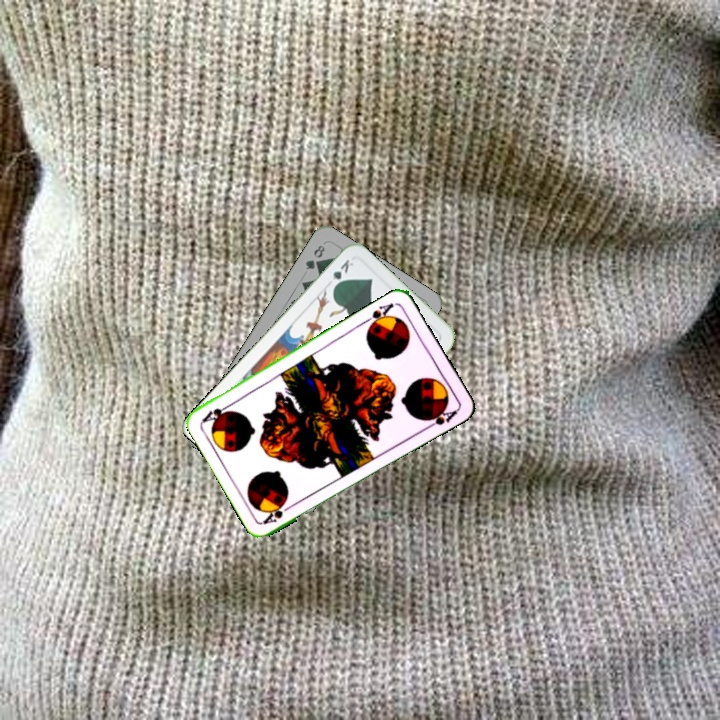G8: (301, 241, 328, 272)
GK: (328, 255, 356, 291)
SA: (360, 299, 396, 331), (259, 497, 296, 527)
